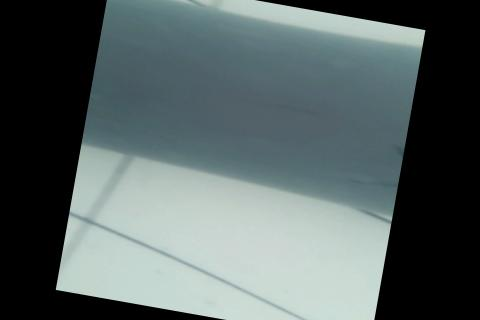keretakan: (345, 174, 398, 193), (388, 141, 405, 161)
